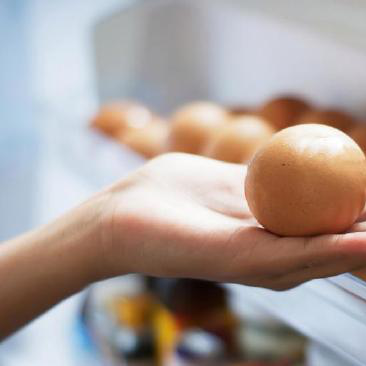egg: (87, 86, 366, 164), (237, 118, 366, 234)
